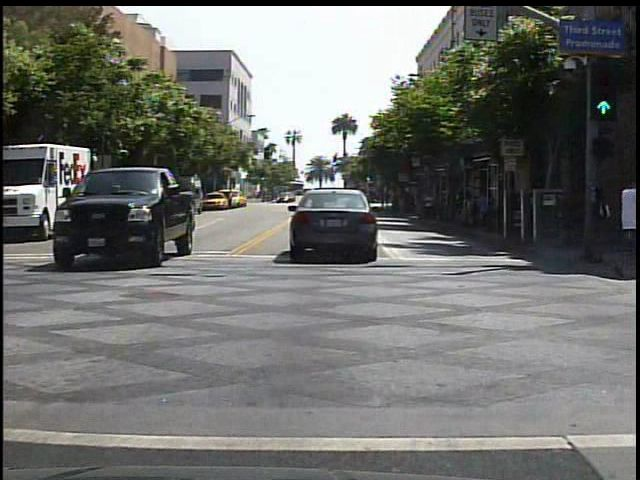person: (592, 172, 624, 270), (420, 188, 439, 224)
